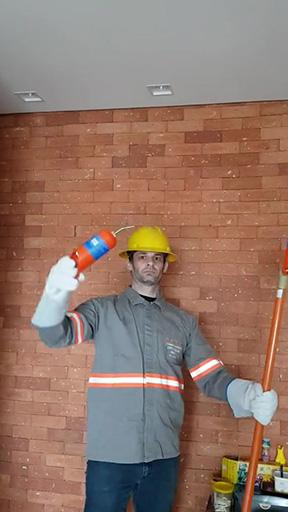Detector_Tensao_Contato: (65, 218, 135, 278)
Vara_Manobra: (241, 277, 286, 512)
